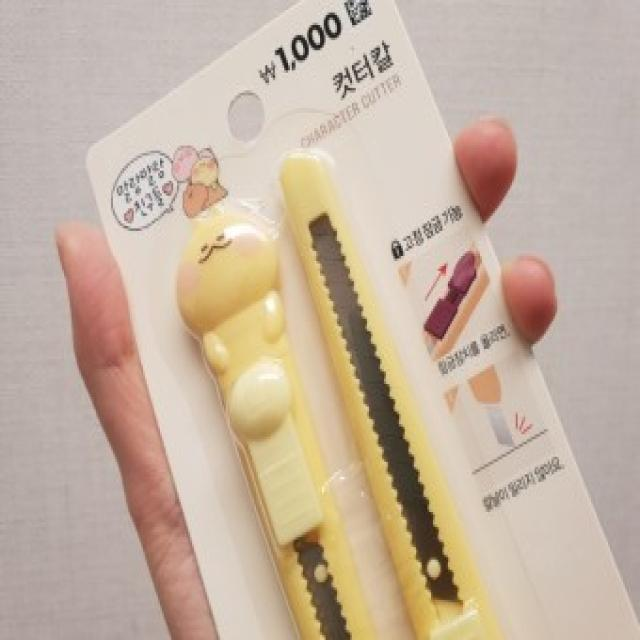cutter: (266, 148, 501, 640), (162, 246, 366, 640)
